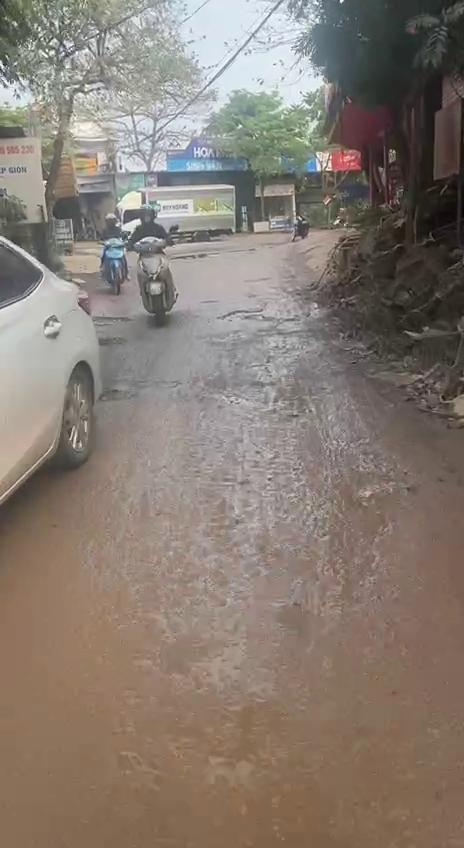pothole: (218, 308, 293, 324), (98, 384, 145, 406), (92, 313, 129, 328), (98, 335, 130, 349)
